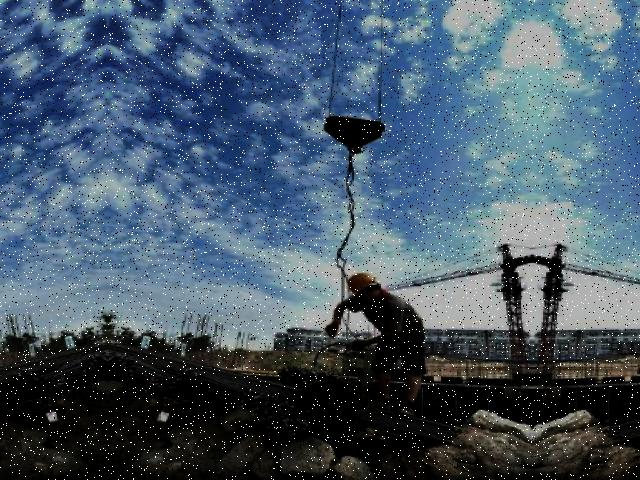Helmet: (344, 269, 381, 300)
